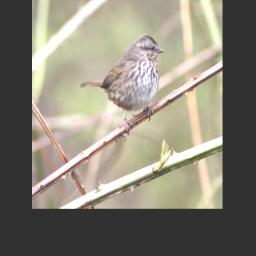Sparrow: (77, 31, 167, 136)
